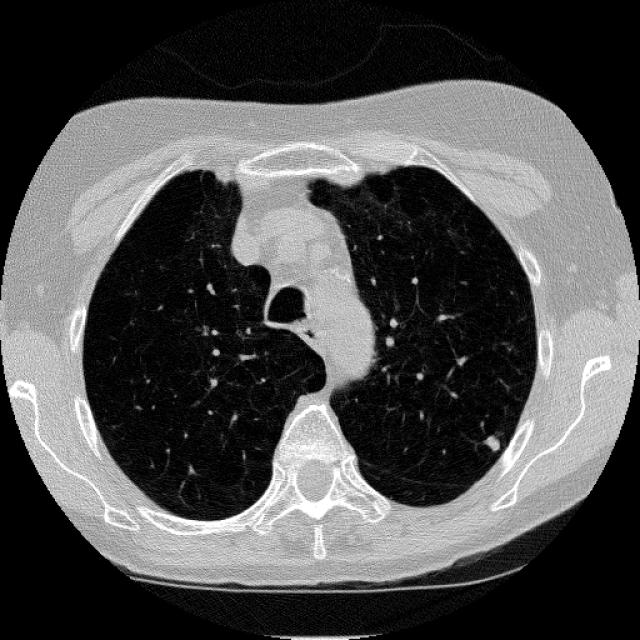nodule: (478, 428, 508, 458)
